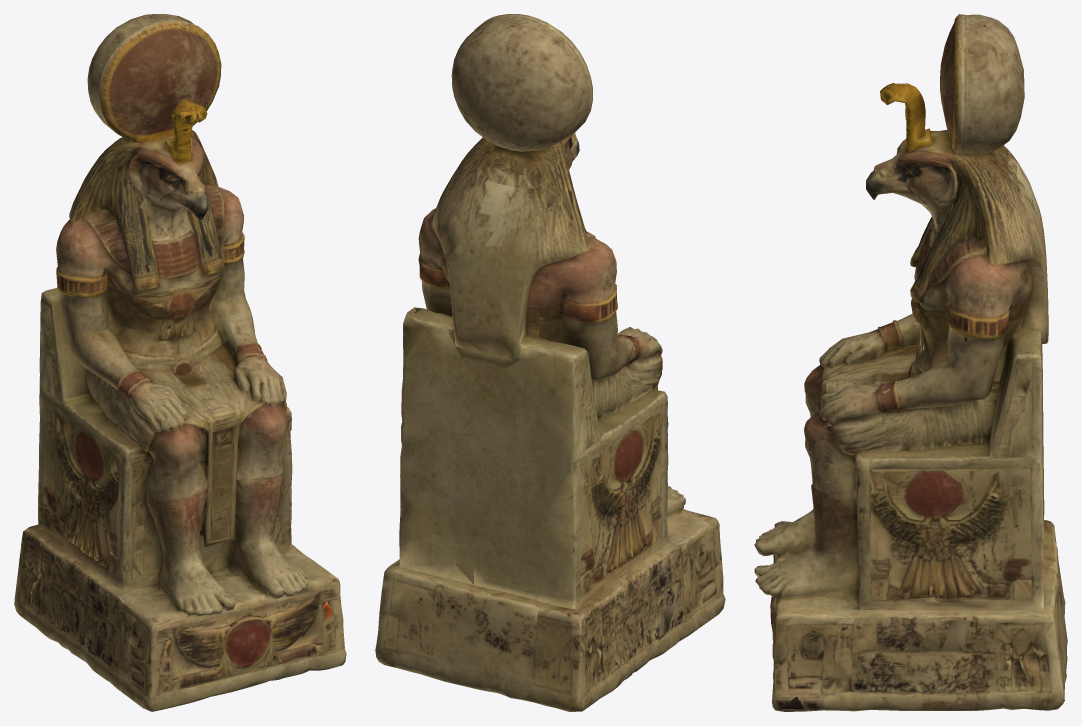
Rendered from statue_ra.glb.
The picture shows the model from 3 angles, left to right: view 1: azimuth 30°, elevation 25°; view 2: azimuth 150°, elevation 25°; view 3: azimuth 270°, elevation 25°; orthographic projection. The views are drawn at different scales.
Parts seen in each view (by area): view 1: prop; view 2: prop; view 3: prop.
Part boxes in pixels (x1,y1,x2,y2): prop: (14, 14, 346, 711); prop: (375, 14, 725, 711); prop: (754, 14, 1067, 711).
Bounding box in the file's own units: 1.39 × 4 × 1.78.
Materials: 1 (1 with a texture image).
